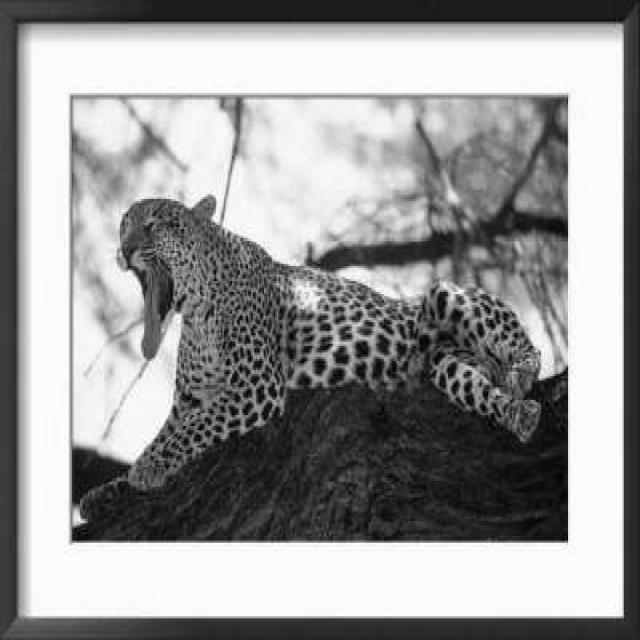Leopard: (72, 233, 438, 468)
